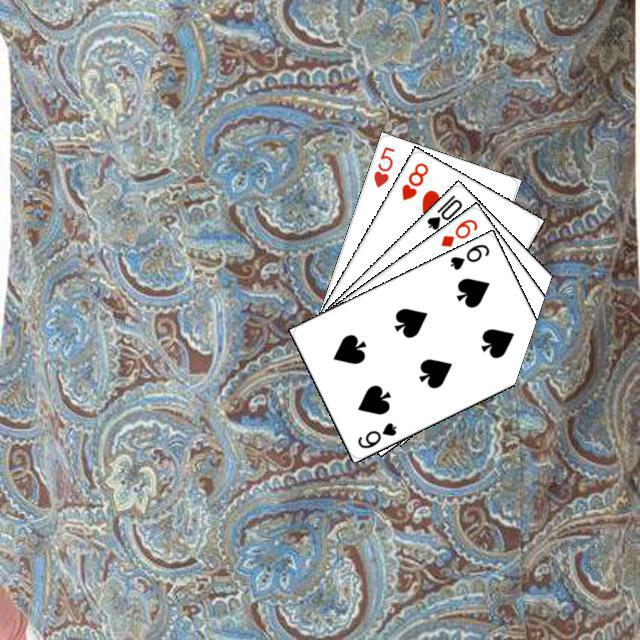10s: (421, 189, 464, 232)
5h: (368, 141, 396, 189)
6d: (436, 214, 479, 249)
6s: (445, 239, 491, 272), (353, 417, 398, 450)
8h: (396, 157, 430, 202)
